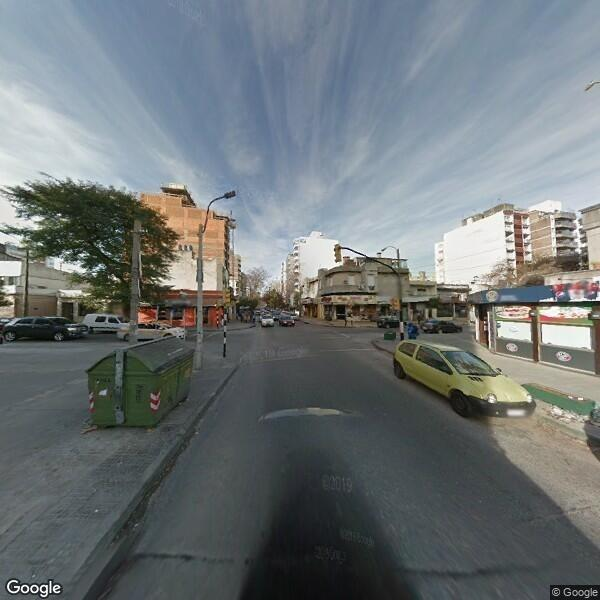Trash: (87, 334, 198, 426)
